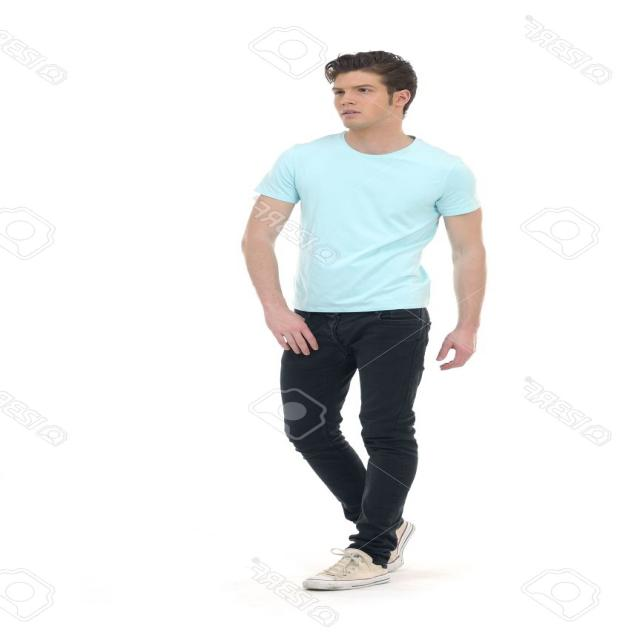adult: (238, 49, 493, 592)
